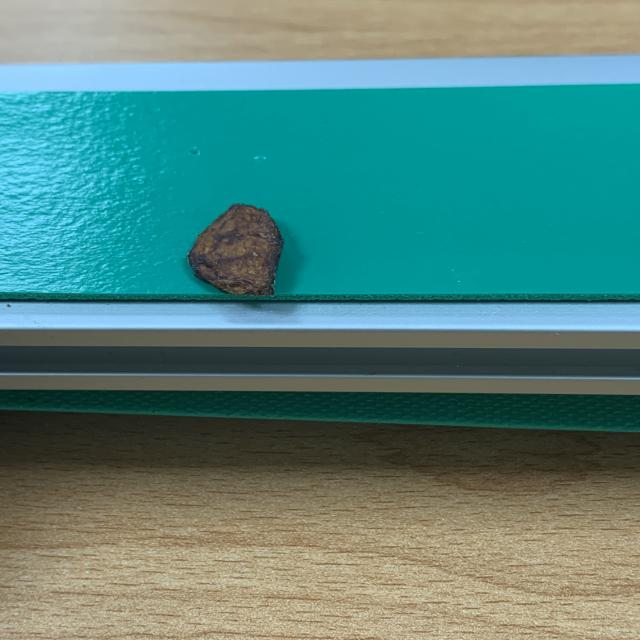Flat_cocoabeans: (126, 192, 339, 316)
